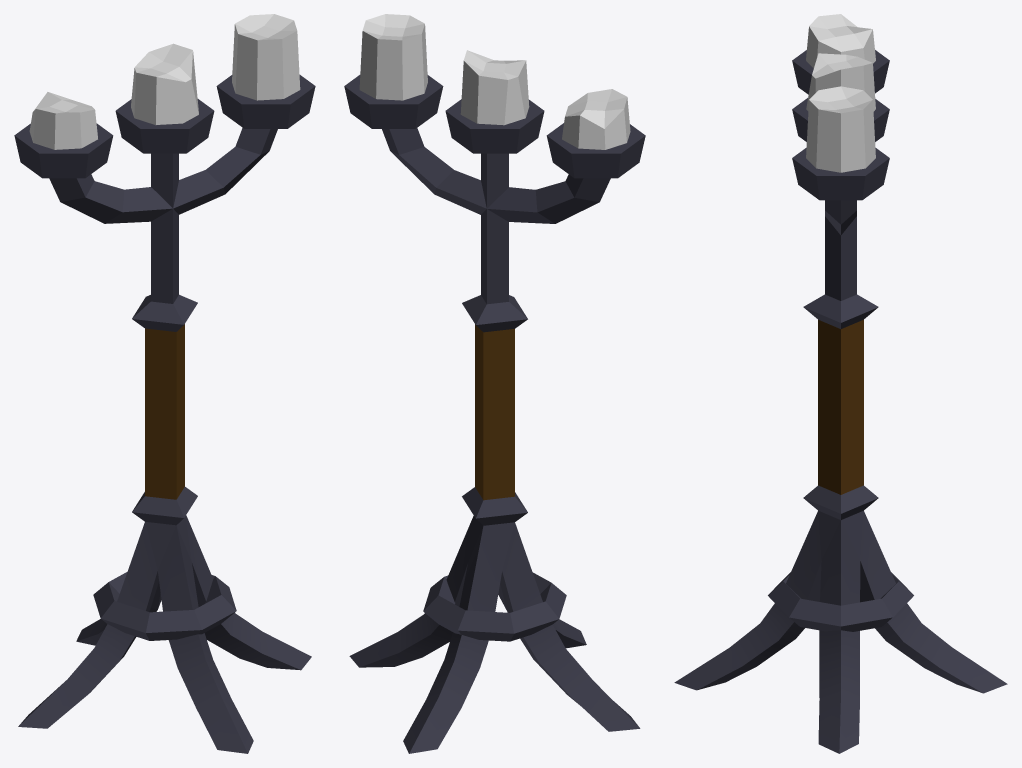
The model's file is Candelabra_Tall.fbx.
3 renders of one model, left to right at view 1: azimuth 30°, elevation 25°; view 2: azimuth 150°, elevation 25°; view 3: azimuth 270°, elevation 25°, orthographic.
Parts seen in each view (by area): view 1: Candelabra_Tall, Fat_Candle01, Fat_Candle02, Fat_Candle03; view 2: Candelabra_Tall, Fat_Candle01, Fat_Candle02, Fat_Candle03; view 3: Candelabra_Tall, Fat_Candle01, Fat_Candle03, Fat_Candle02.
Part boxes in pixels (x1=…): Candelabra_Tall: x1=14, y1=75, x2=315, y2=753; Fat_Candle01: x1=232, y1=14, x2=300, y2=100; Fat_Candle02: x1=131, y1=43, x2=198, y2=124; Fat_Candle03: x1=29, y1=92, x2=97, y2=149; Candelabra_Tall: x1=344, y1=75, x2=645, y2=753; Fat_Candle01: x1=359, y1=14, x2=427, y2=100; Fat_Candle02: x1=460, y1=50, x2=529, y2=125; Fat_Candle03: x1=562, y1=89, x2=630, y2=149; Candelabra_Tall: x1=674, y1=50, x2=1007, y2=753; Fat_Candle01: x1=806, y1=86, x2=875, y2=172; Fat_Candle03: x1=806, y1=14, x2=875, y2=68; Fat_Candle02: x1=806, y1=53, x2=875, y2=111.
Size of the model in its own units: 0.9922 by 2.08 by 0.9922.
